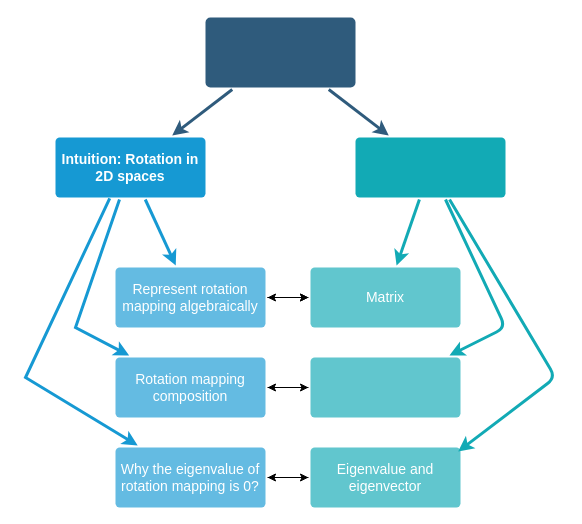
This 582x524 diagram has some shape labels left out. The shapes that lost their labels are listed below. From the top down, each one's box as (x1, y1, x2, y2) in pixels, then its label:
(205, 17, 355, 87): Linear Algebra
(355, 137, 505, 197): Theory
(310, 357, 460, 417): Matrix multiplication
